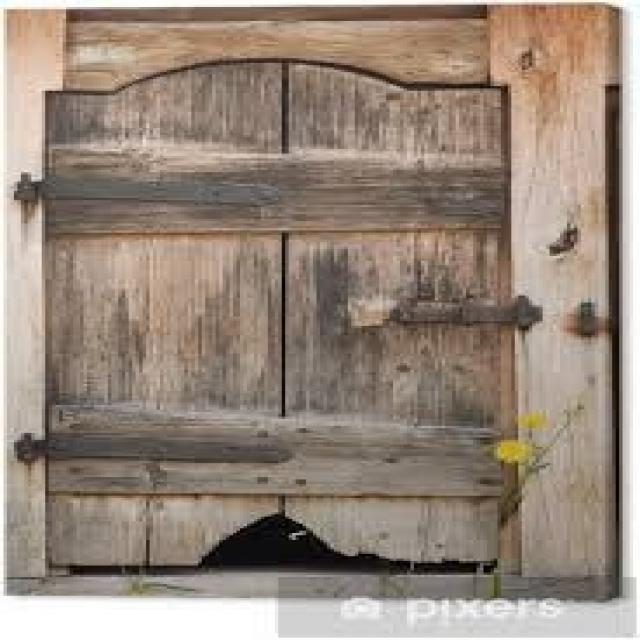Door: (45, 91, 515, 558)
